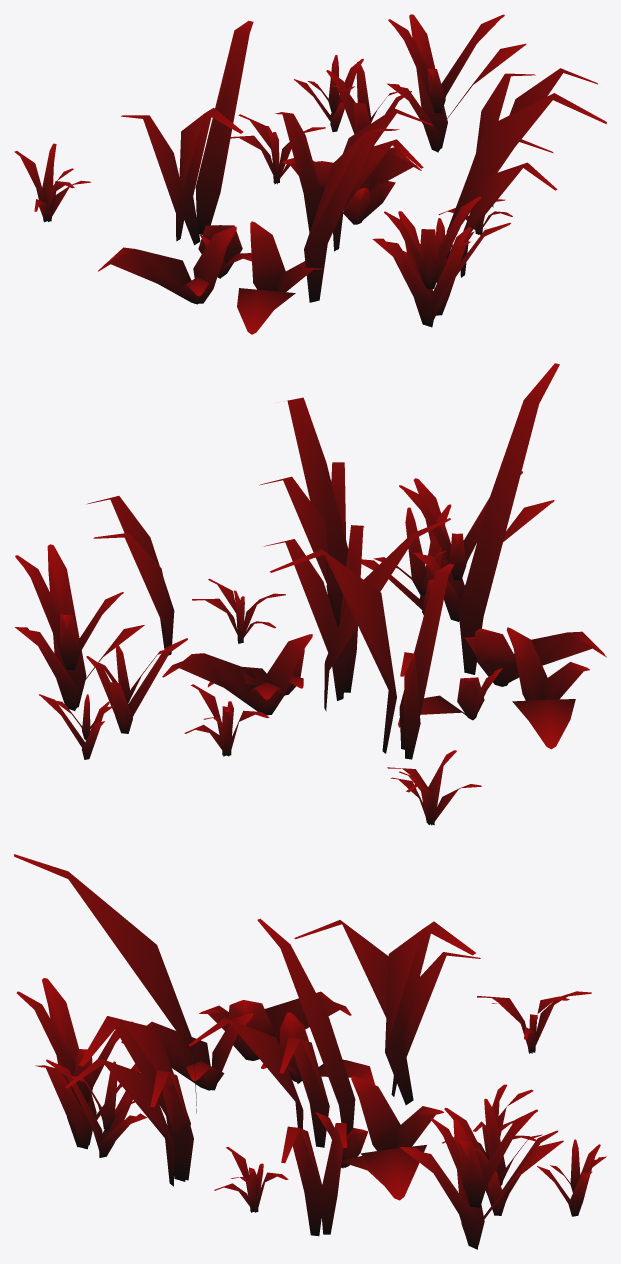
Rendered from grass_LOD1.fbx.
3 renders of one model, top to bottom at view 1: azimuth 30°, elevation 25°; view 2: azimuth 150°, elevation 25°; view 3: azimuth 270°, elevation 25°, orthographic. The views are drawn at different scales.
Parts seen in each view (by area): view 1: Plane.009; view 2: Plane.009; view 3: Plane.009.
Boxes of the visible parts, left/top/right/bottom form: Plane.009: left=14, top=14, right=606, bottom=334; Plane.009: left=14, top=363, right=606, bottom=825; Plane.009: left=14, top=854, right=606, bottom=1249.
Size of the model in its own units: 9.85 by 4.67 by 9.67.
